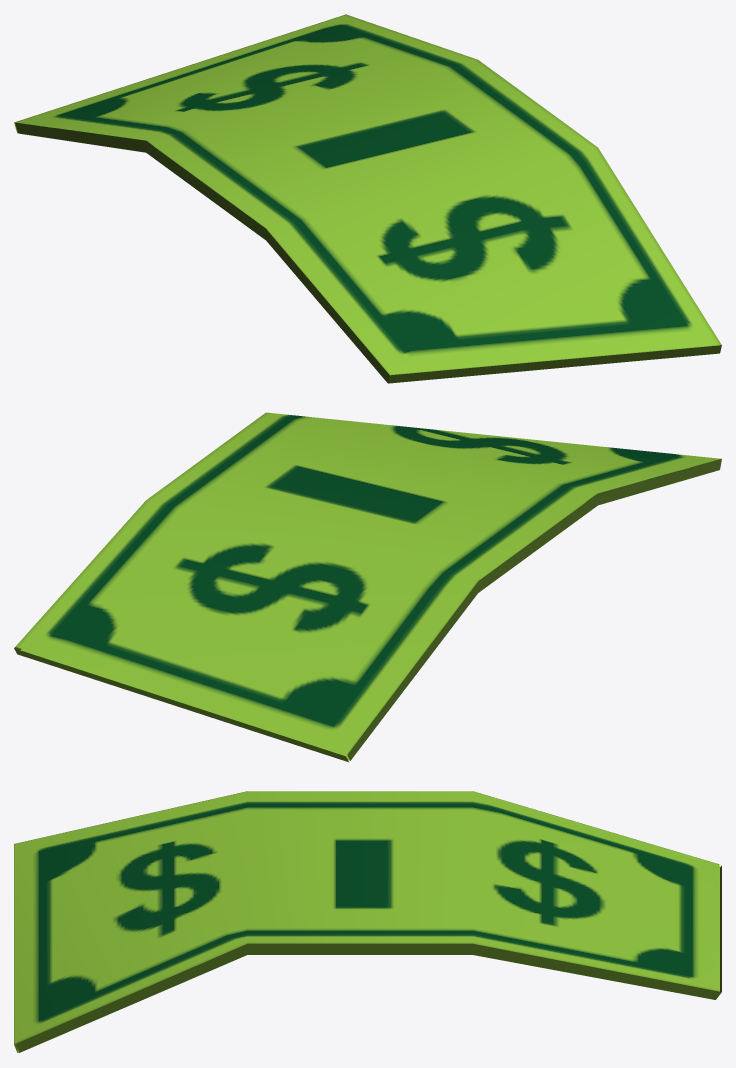
File: CashSingle.FBX
3 views of the same model, one above another, from view 1: azimuth 30°, elevation 25°; view 2: azimuth 150°, elevation 25°; view 3: azimuth 270°, elevation 25° (orthographic). The views are drawn at different scales.
Visible parts, largest first — view 1: CashSingle; view 2: CashSingle; view 3: CashSingle.
Part boxes in pixels (x1,y1,x2,y2): CashSingle: (14, 14, 721, 383); CashSingle: (14, 412, 721, 762); CashSingle: (14, 791, 721, 1052).
Bounding box in the file's own units: 50.71 × 17.04 × 99.44.
Materials: 1 (1 with a texture image).
